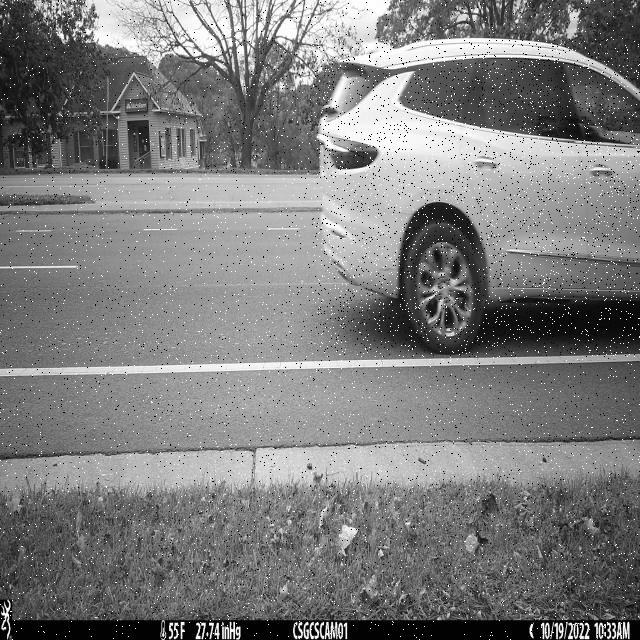SUV: (315, 39, 640, 357)
